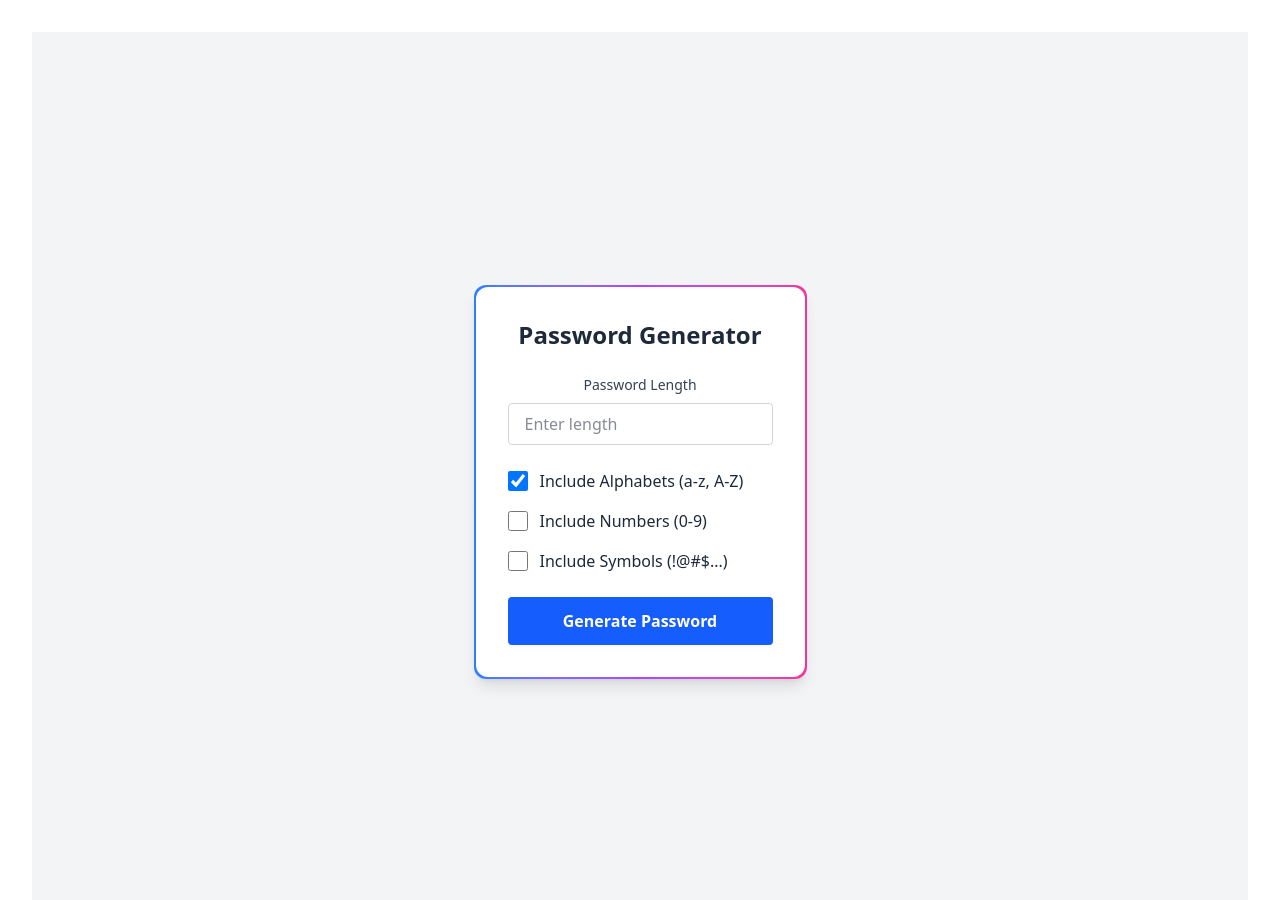
Test: Password Component › generates password with only alphabets
The width and height of the screenshot is (1280, 900).
In the number field labelled "Password Length": (640, 424) [508, 403, 772, 445], type "12"
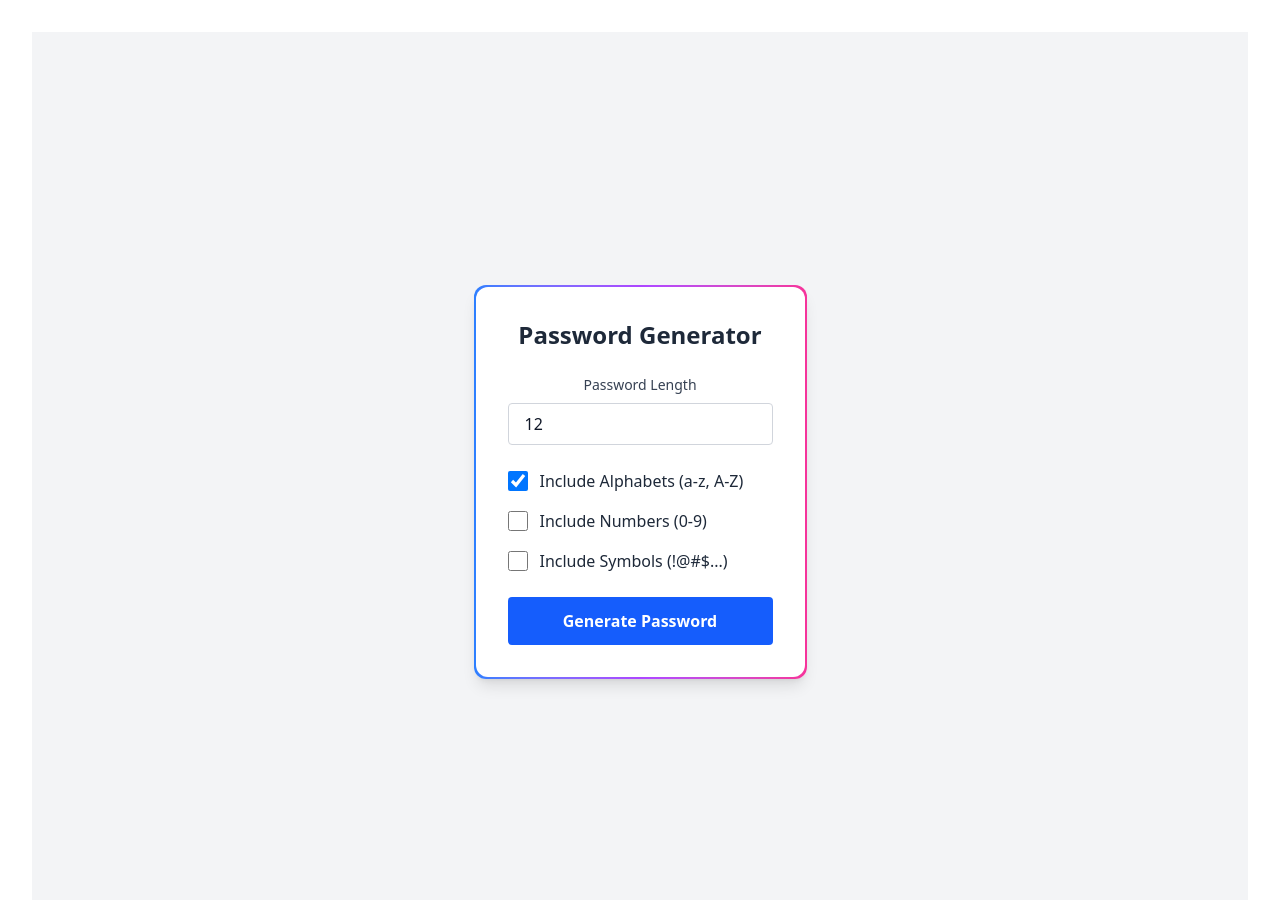
Click the button "Generate Password": (640, 621) [508, 597, 772, 645]
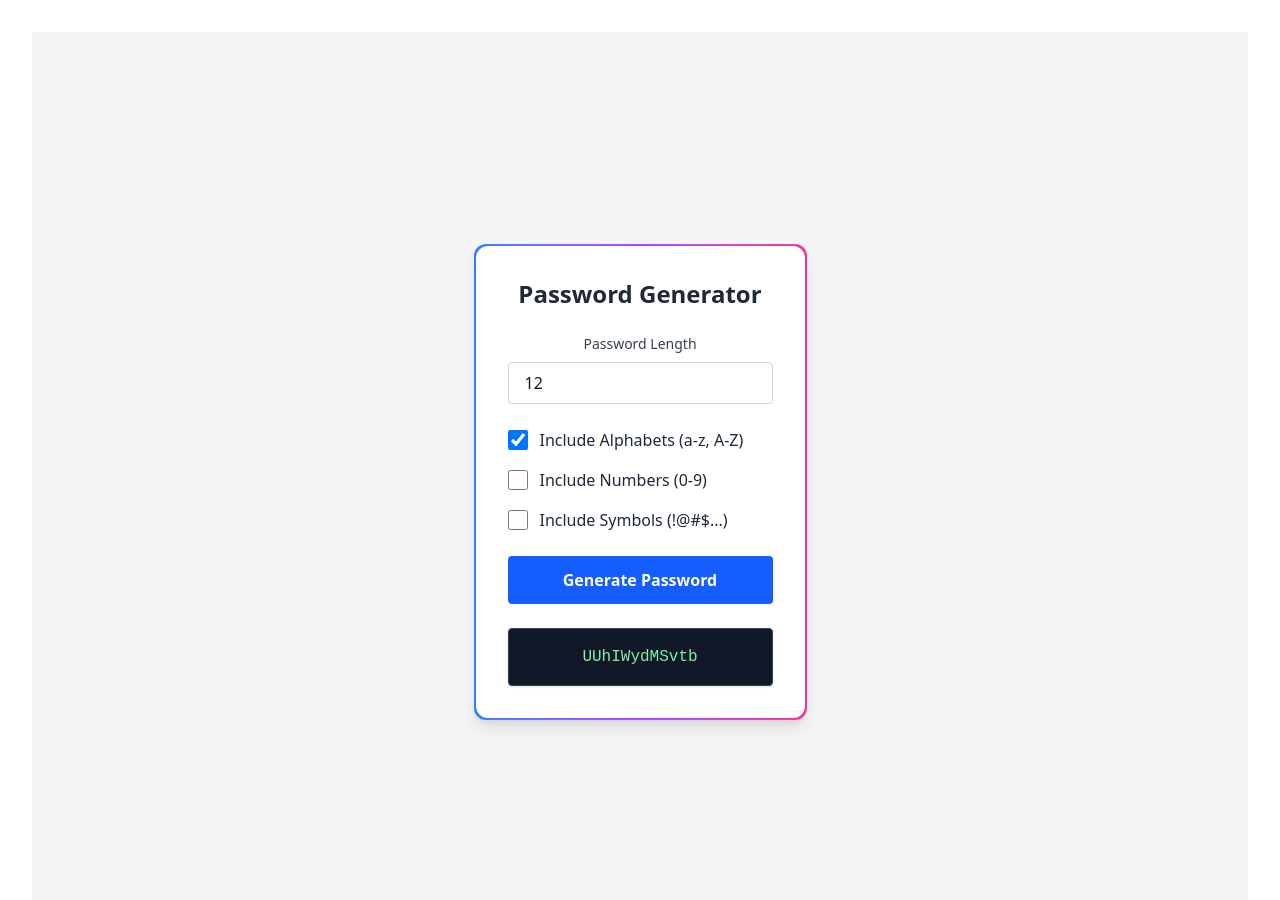
Expected: the text with test id "password-output" is shown, [508, 628, 772, 686]
